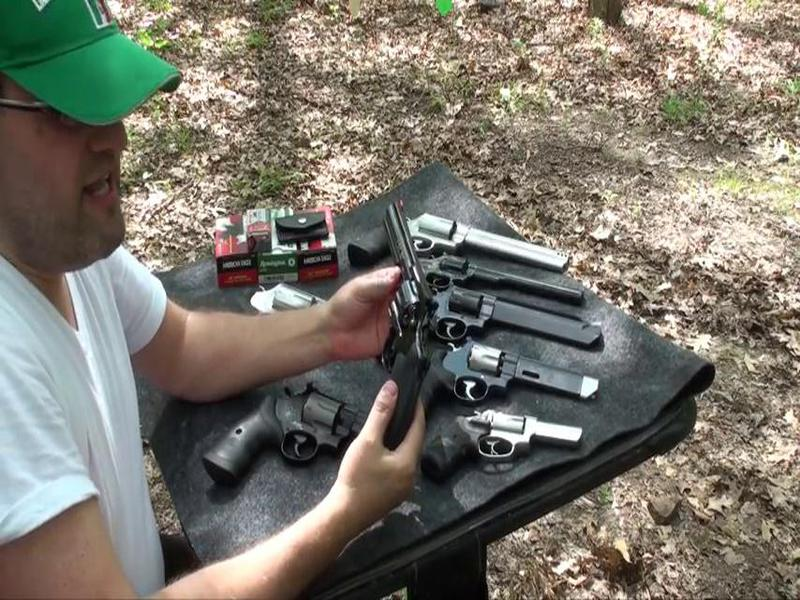Revolver: (352, 198, 447, 456)
